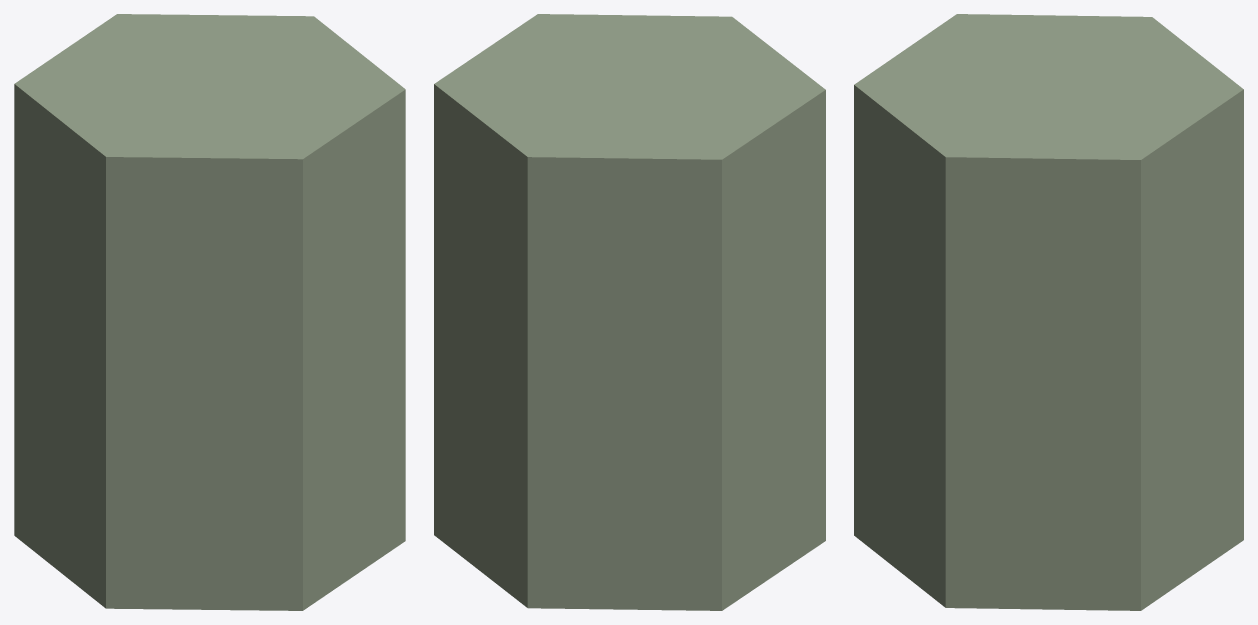
Rendered from 03_Roche_06_v001.fbx.
3 views of the same model, side by side, from view 1: azimuth 30°, elevation 25°; view 2: azimuth 150°, elevation 25°; view 3: azimuth 270°, elevation 25° (orthographic).
Visible parts, largest first — view 1: Roche_06; view 2: Roche_06; view 3: Roche_06.
Boxes of the visible parts, bbox=[...] form: Roche_06: bbox=[14, 14, 405, 610]; Roche_06: bbox=[434, 14, 825, 610]; Roche_06: bbox=[854, 14, 1243, 610].
Size of the model in its own units: 1.68 by 2.42 by 1.89.
